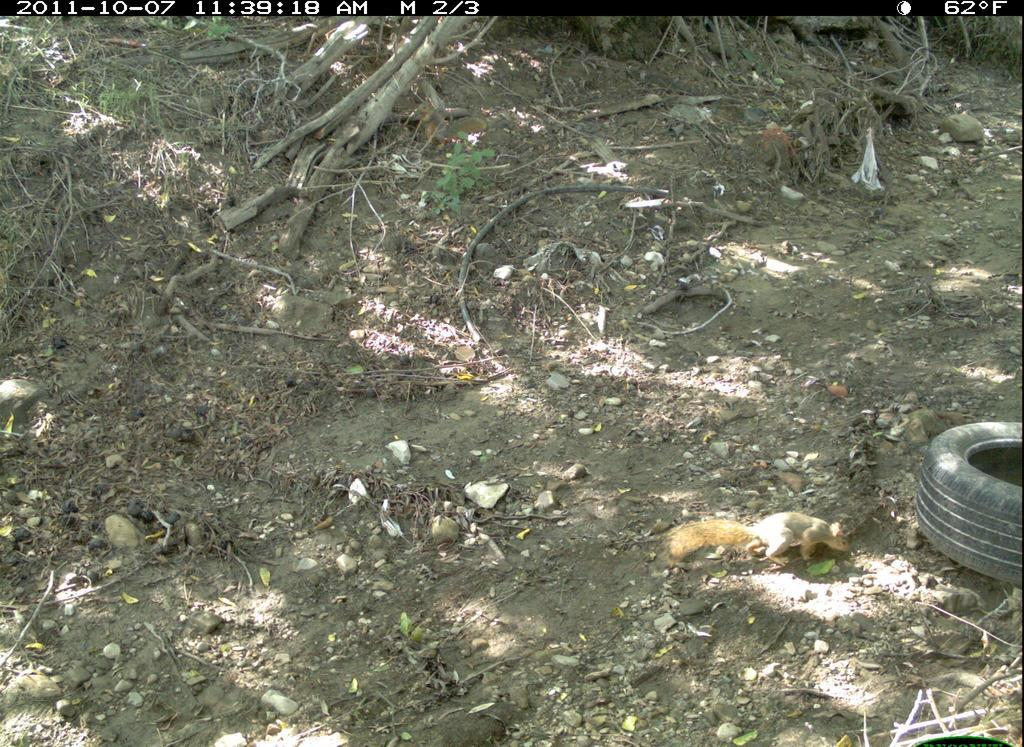squirrel: (660, 510, 857, 574)
